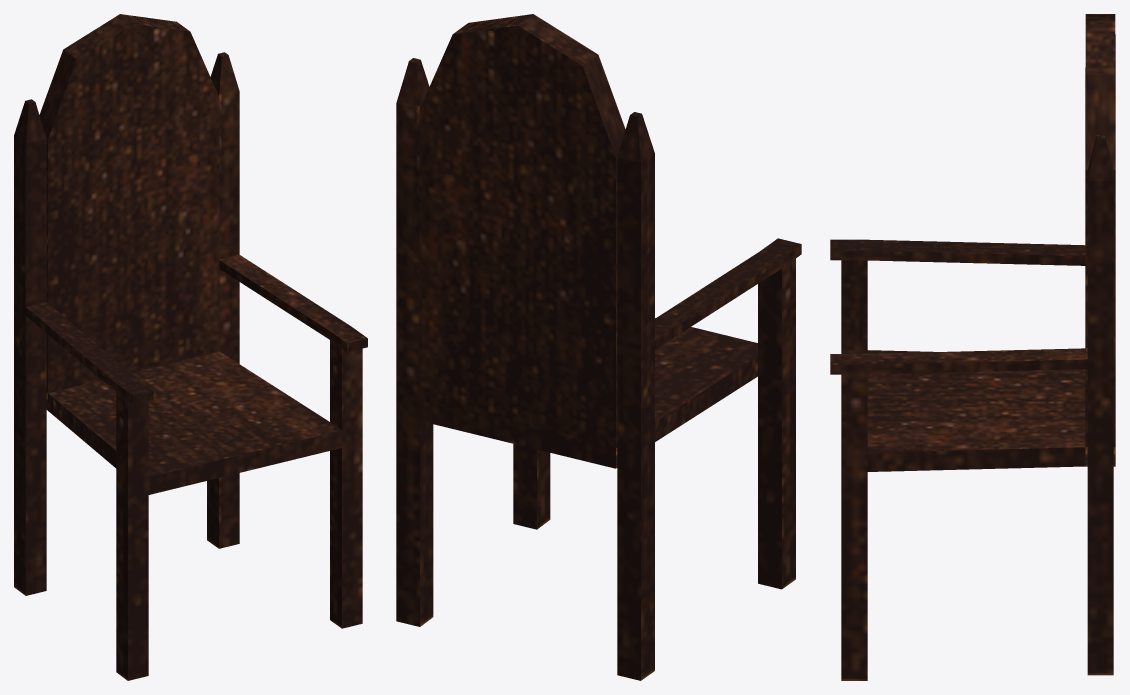
File: SM_Dungeon_Chair_Dining.fbx
The picture shows the model from 3 angles, left to right: view 1: azimuth 30°, elevation 25°; view 2: azimuth 150°, elevation 25°; view 3: azimuth 270°, elevation 25°; orthographic projection. The views are drawn at different scales.
Parts seen in each view (by area): view 1: SM_Dungeon_Chair_Dining; view 2: SM_Dungeon_Chair_Dining; view 3: SM_Dungeon_Chair_Dining.
Boxes of the visible parts, x1,y1,x2,y2 form: SM_Dungeon_Chair_Dining: (14, 14, 367, 680); SM_Dungeon_Chair_Dining: (396, 14, 801, 680); SM_Dungeon_Chair_Dining: (830, 14, 1115, 680).
Bounding box in the file's own units: 65.72 × 146 × 63.21.
